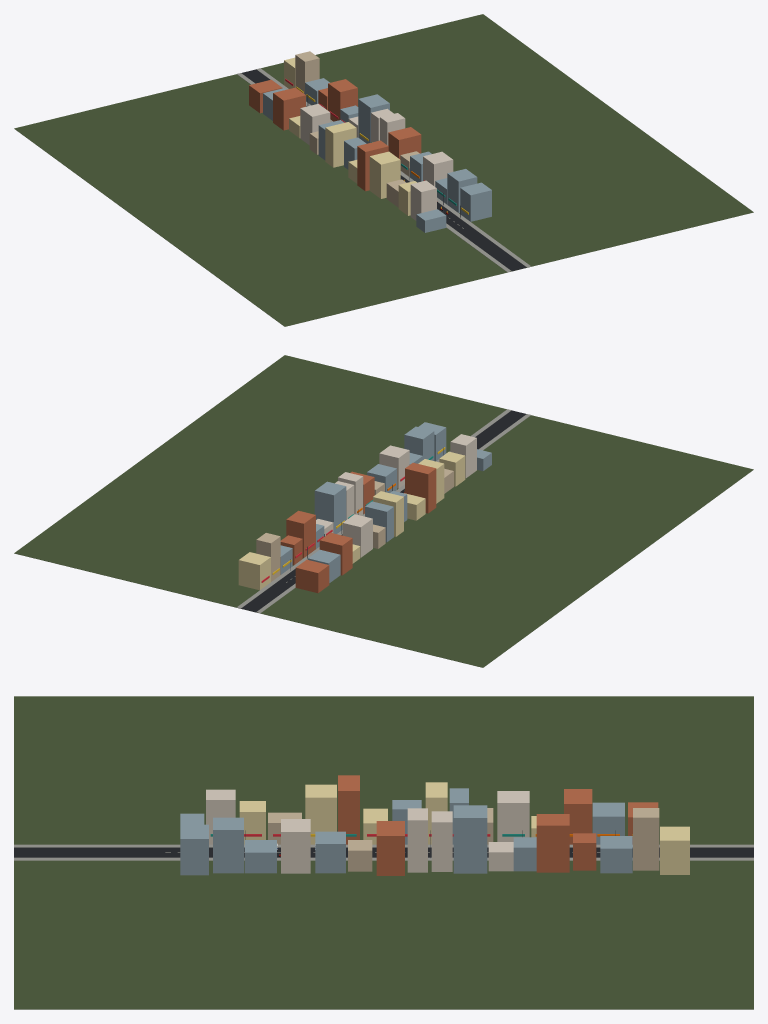
Rendered from set.glb.
3 renders of one model, top to bottom at view 1: azimuth 30°, elevation 25°; view 2: azimuth 150°, elevation 25°; view 3: azimuth 270°, elevation 25°, orthographic. The views are drawn at different scales.
Size of the model in its own units: 240 by 20.05 by 240.
